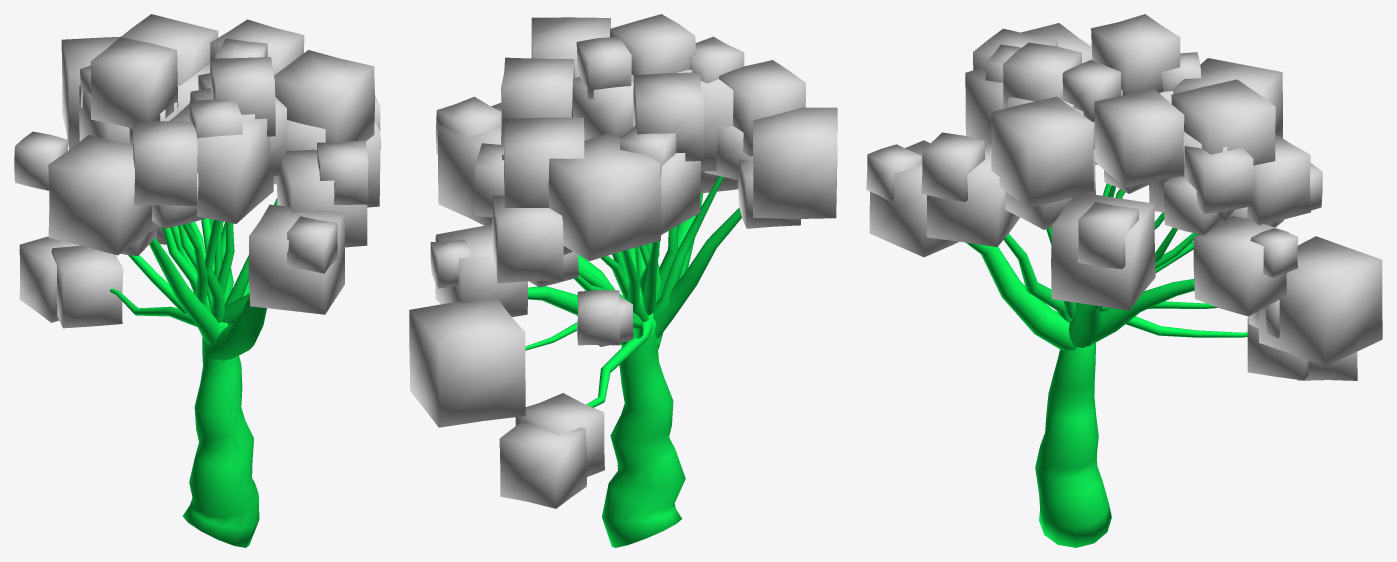
Rendered from ValeriaTree.fbx.
3 views of the same model, side by side, from view 1: azimuth 30°, elevation 25°; view 2: azimuth 150°, elevation 25°; view 3: azimuth 270°, elevation 25° (orthographic). The views are drawn at different scales.
Visible parts, largest first — view 1: merge1; view 2: merge1; view 3: merge1.
Part boxes in pixels (left/top/right/bottom): merge1: left=14, top=14, right=380, bottom=547; merge1: left=409, top=14, right=837, bottom=547; merge1: left=866, top=14, right=1382, bottom=547.
Size of the model in its own units: 15.78 by 20.55 by 19.96.
